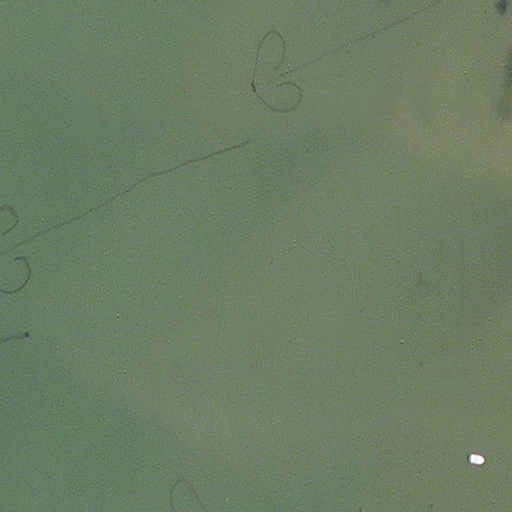ship: (467, 452, 485, 468)
